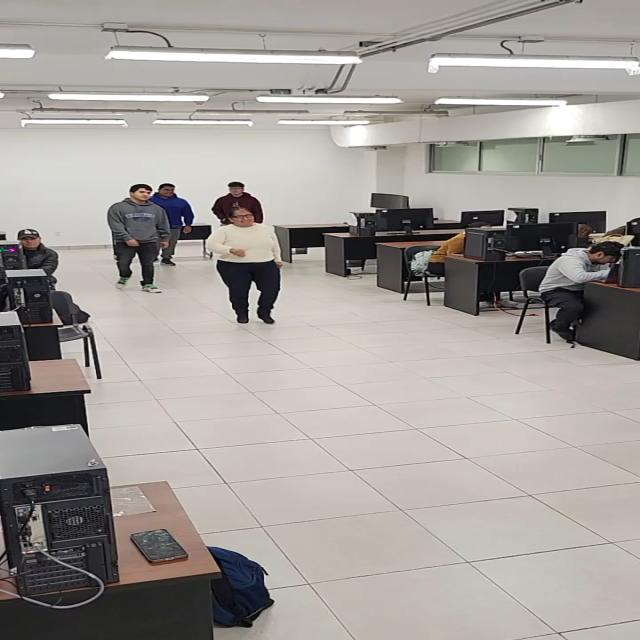Persona: (206, 206, 284, 325), (106, 184, 172, 294), (149, 182, 194, 266), (211, 181, 264, 227)
